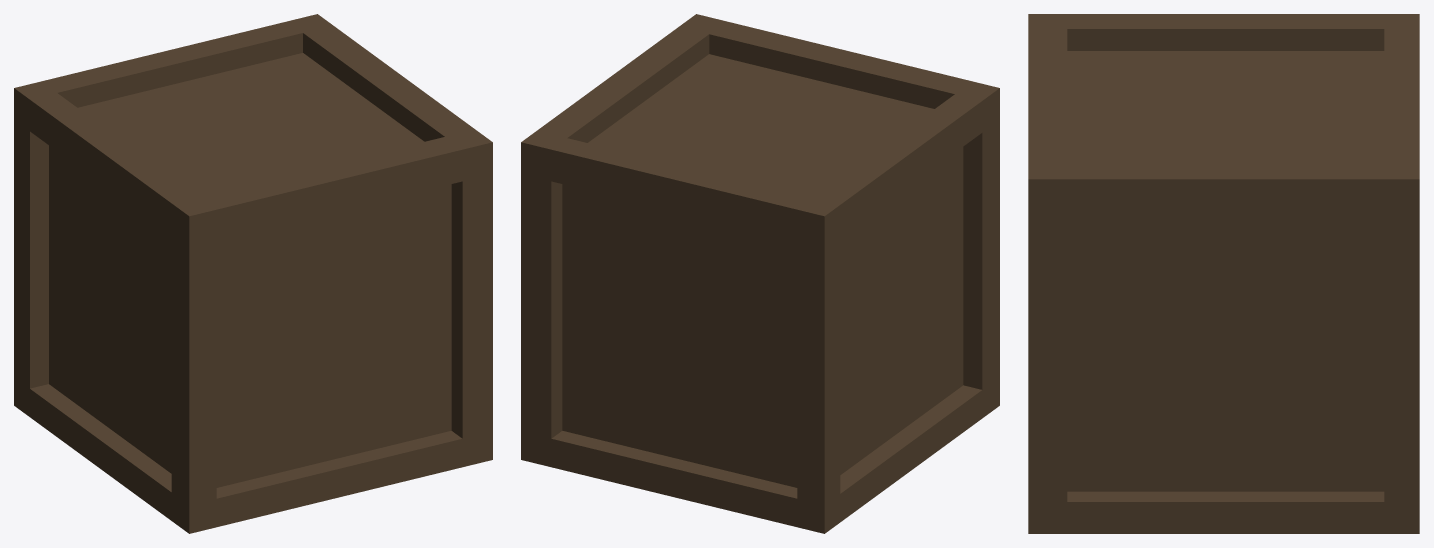
The picture shows the model from 3 angles, left to right: view 1: azimuth 30°, elevation 25°; view 2: azimuth 150°, elevation 25°; view 3: azimuth 270°, elevation 25°; orthographic projection. The views are drawn at different scales.
Visible parts, largest first — view 1: Box; view 2: Box; view 3: Box.
Boxes of the visible parts, left/top/right/bottom form: Box: left=14, top=14, right=492, bottom=533; Box: left=521, top=14, right=999, bottom=533; Box: left=1028, top=14, right=1419, bottom=533.
Bounding box in the file's own units: 1.4 × 1.4 × 1.4.
1 material, 1 textured.
